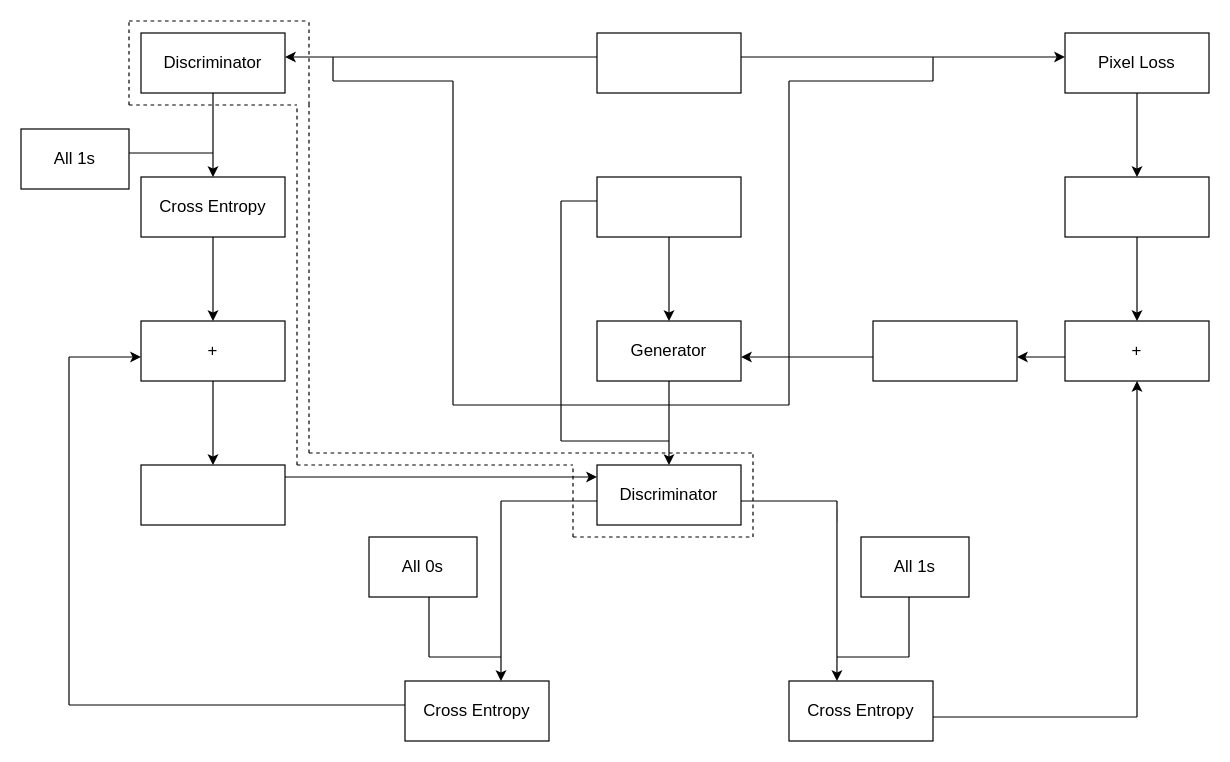
This 1230x762 diagram has some shape labels left out. The shapes that lost their labels are listed below. From the top down, each one's centre as x and y in pixels, then its label:
At point (668, 62): "Target Image".
At point (668, 206): "Input Image".
At point (1136, 206): "Lambda".
At point (944, 350): "Generator Gradients".
At point (212, 494): "Discriminator Gradients".
